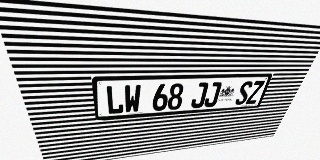6: (152, 84, 170, 111)
8: (167, 83, 185, 110)
J: (190, 82, 209, 108), (203, 82, 222, 107)
L: (105, 85, 124, 115)
S: (234, 81, 254, 105)
W: (124, 84, 141, 113)
Z: (245, 81, 265, 104)
